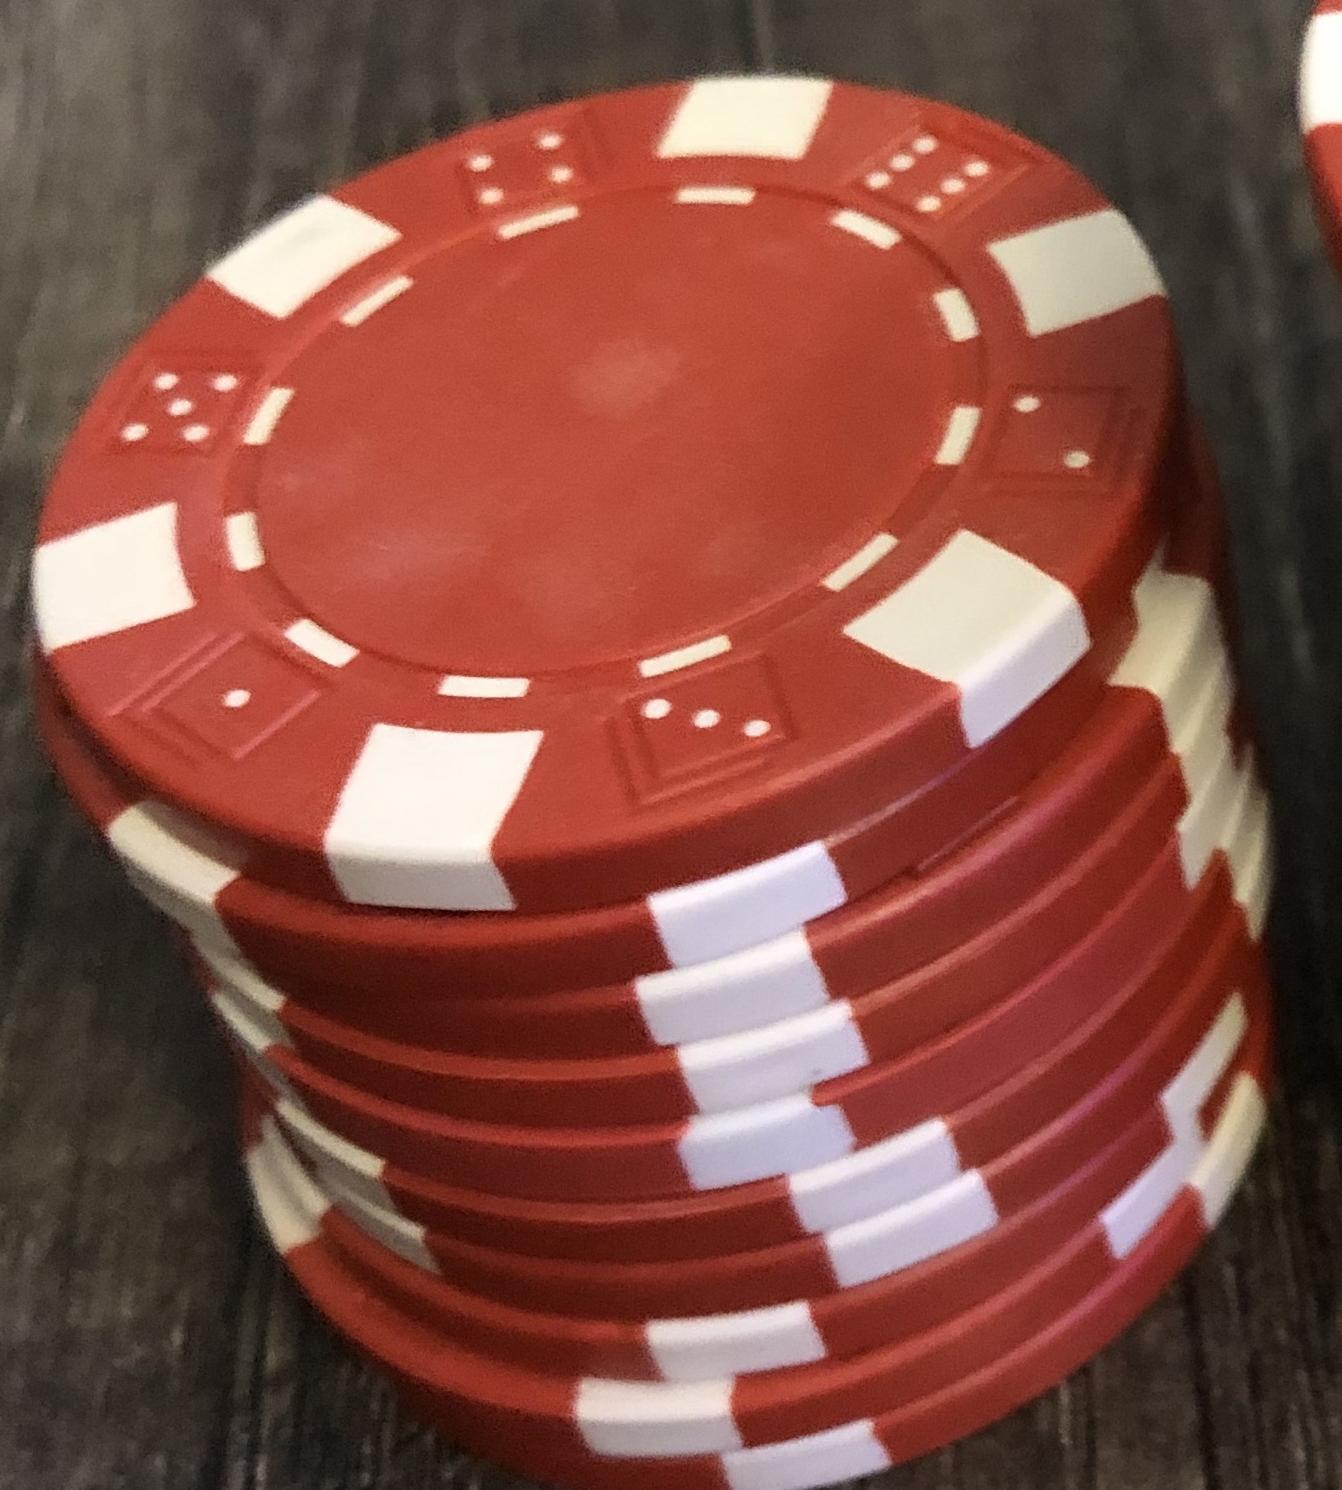Chip: (1, 1, 1342, 1490)
